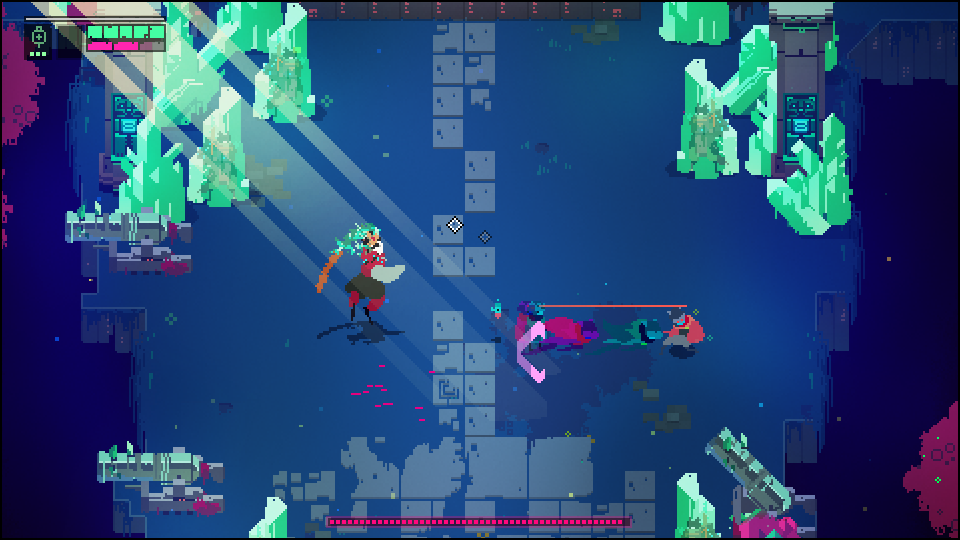hanged_man: (317, 222, 405, 327)
player: (652, 312, 702, 349)
